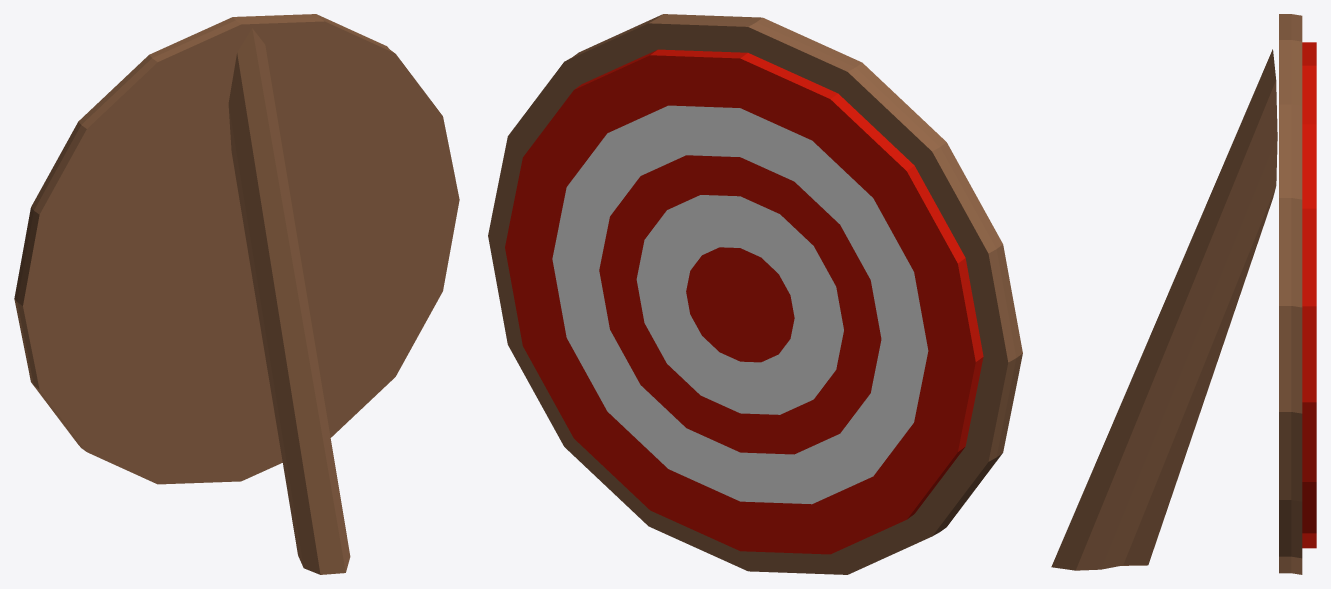
File: updated_target.fbx
3 renders of one model, left to right at view 1: azimuth 30°, elevation 25°; view 2: azimuth 150°, elevation 25°; view 3: azimuth 270°, elevation 25°, orthographic. The views are drawn at different scales.
Parts seen in each view (by area): view 1: Target, Red1, Stand; view 2: Red1, Target, Target.003, Target.005, Target.004, Target.001; view 3: Stand, Target.
Boxes of the visible parts, x1=… form: Target: x1=14, y1=14, x2=459, y2=484; Red1: x1=23, y1=21, x2=395, y2=484; Stand: x1=228, y1=28, x2=350, y2=574; Red1: x1=505, y1=55, x2=975, y2=554; Target: x1=488, y1=14, x2=1022, y2=574; Target.003: x1=552, y1=105, x2=928, y2=504; Target.005: x1=599, y1=155, x2=881, y2=454; Target.004: x1=636, y1=195, x2=843, y2=414; Target.001: x1=686, y1=247, x2=794, y2=362; Stand: x1=1051, y1=49, x2=1277, y2=570; Target: x1=1279, y1=14, x2=1316, y2=574.
Bounding box in the file's own units: 89.8 × 94.16 × 42.41.
